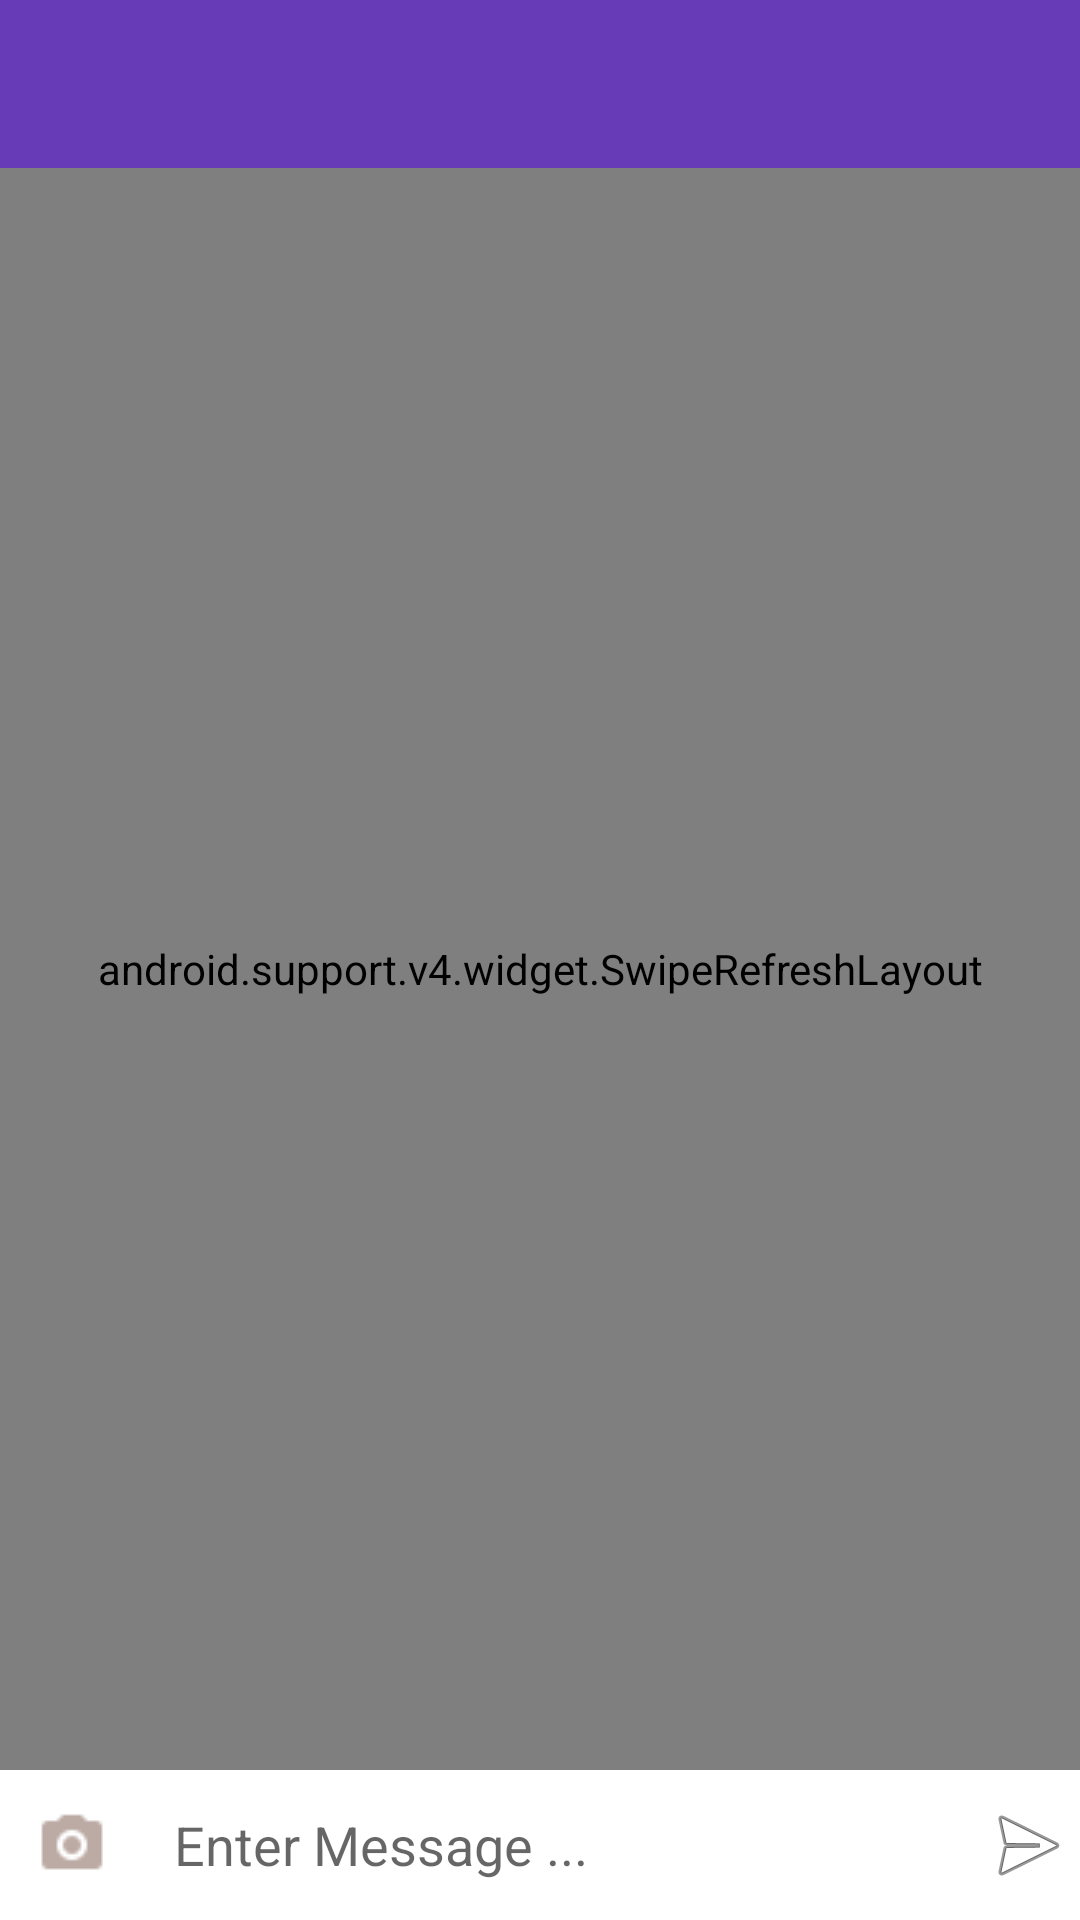

Screen size 1080*1920. Icon name, then its box in pixels as (x1, y1, x2, y2):
camera: (41, 1814, 103, 1870)
send: (998, 1815, 1060, 1876)
